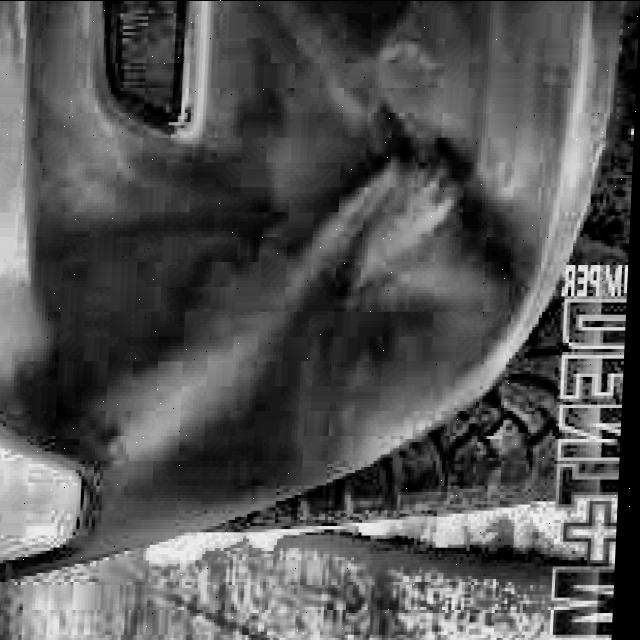bumper_dent: (222, 182, 447, 388)
